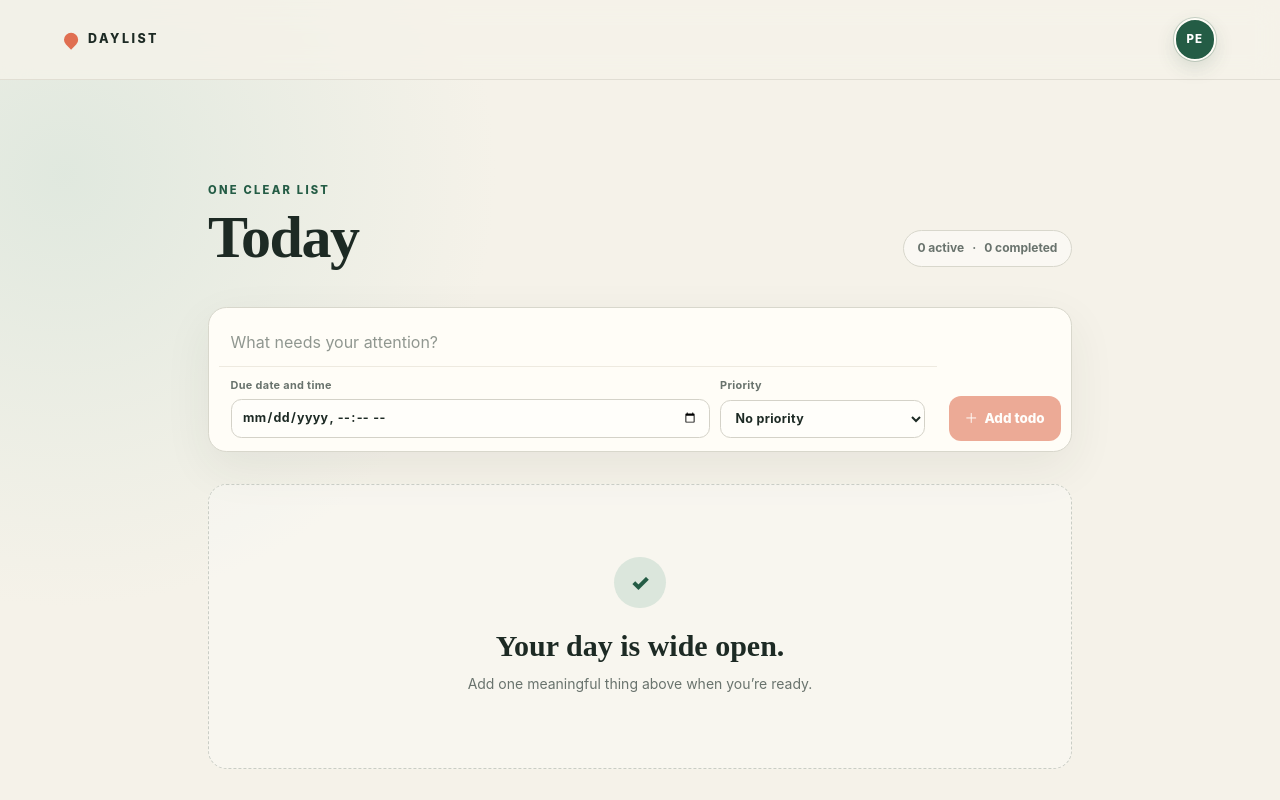
Scenario: App › signs out and returns to the anonymous screen
Click the button with aria-label "Account menu for person@example.com".
click(1195, 40)  # box [1174, 18, 1216, 61]
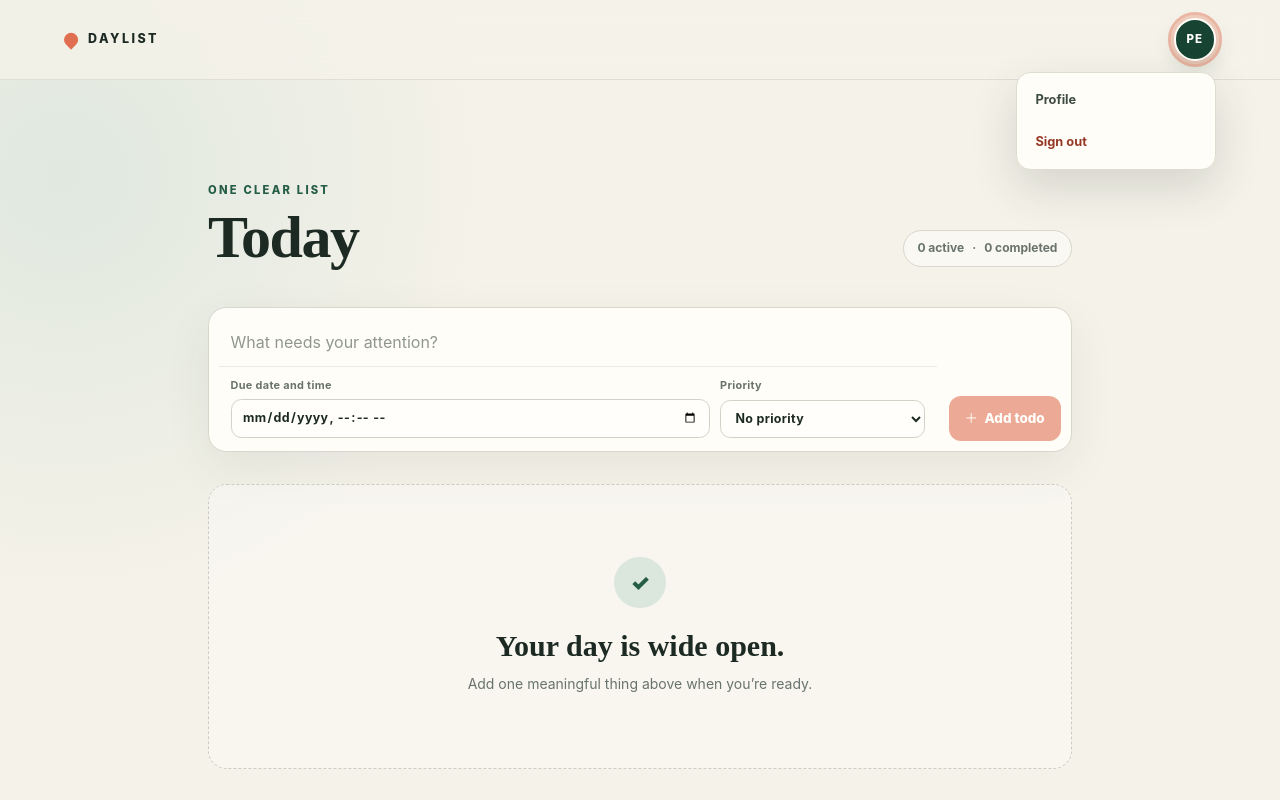
Click the menu item "Sign out".
click(1116, 142)  # box [1023, 121, 1209, 162]
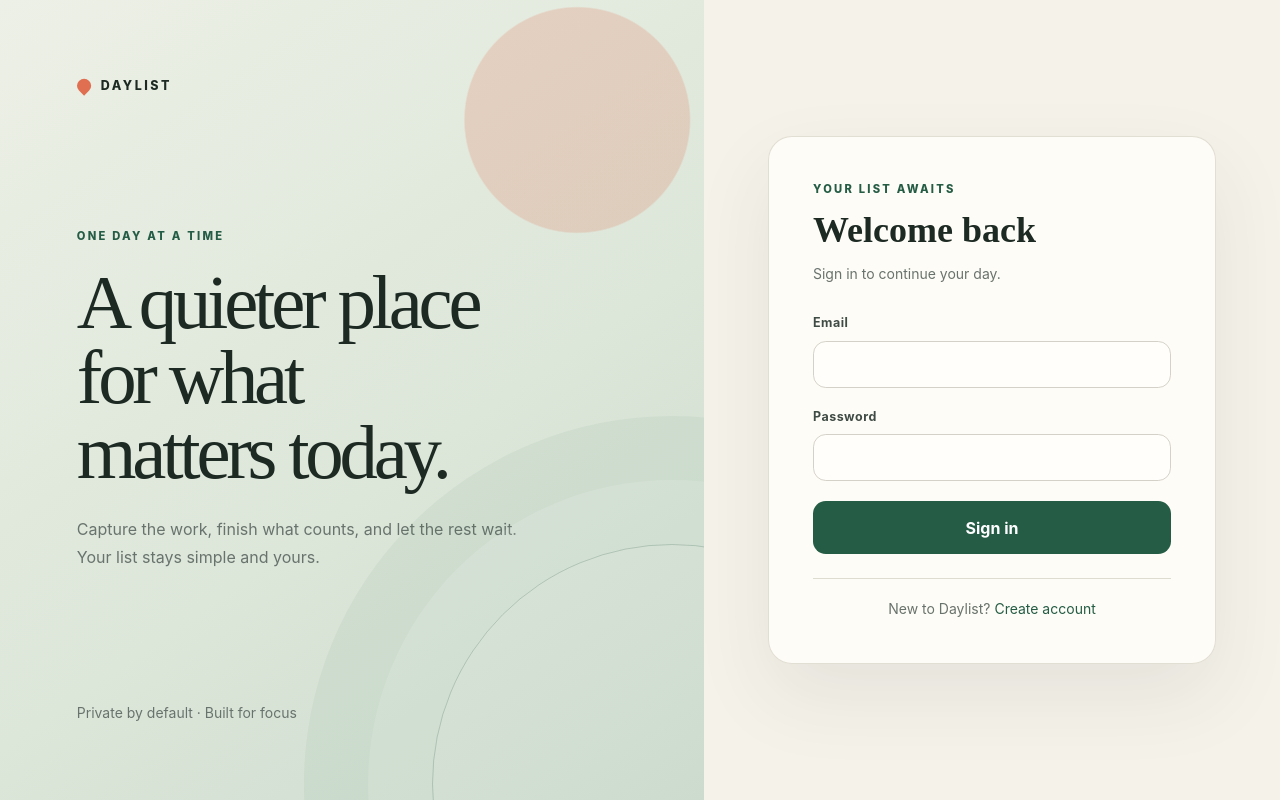
Now the heading "Welcome back" is shown, box [813, 210, 1036, 250]
